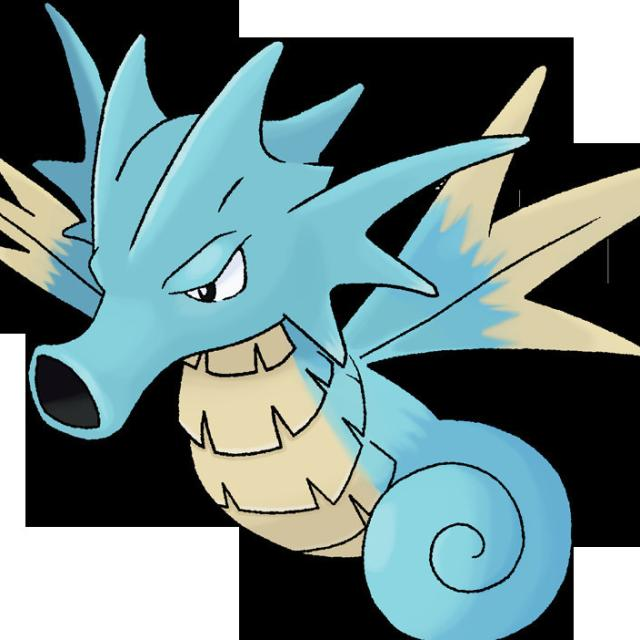Seadra: (47, 39, 569, 529)
